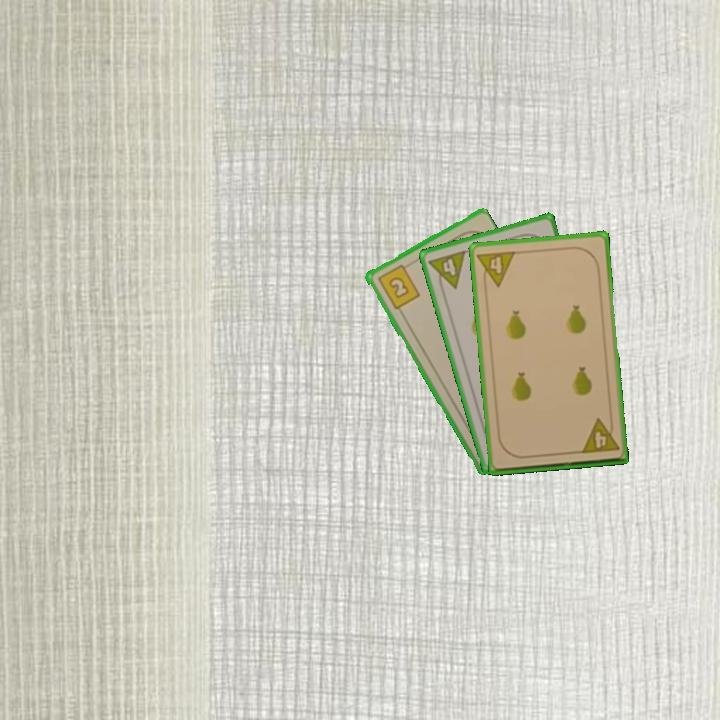2b: (374, 261, 423, 312)
4p: (425, 247, 469, 295), (474, 247, 518, 290), (577, 415, 622, 456)
